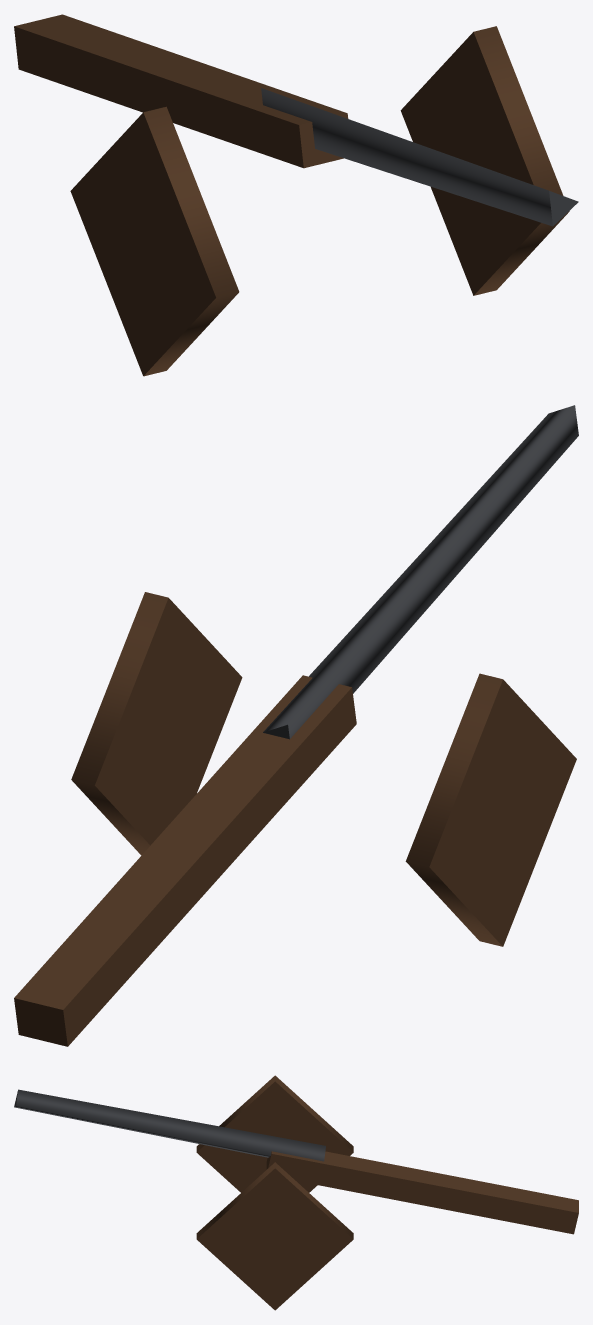
The model's file is unit_mil_gun_a05_lod2.glb.
3 renders of one model, top to bottom at view 1: azimuth 30°, elevation 25°; view 2: azimuth 150°, elevation 25°; view 3: azimuth 270°, elevation 25°, orthographic. The views are drawn at different scales.
Parts seen in each view (by area): view 1: wheel_0, wheel_1, body, barrel; view 2: body, wheel_0, wheel_1, barrel; view 3: wheel_1, body, wheel_0, barrel.
Boxes of the visible parts, x1=… form: wheel_0: x1=70, y1=106, x2=239, y2=376; wheel_1: x1=400, y1=26, x2=569, y2=295; body: x1=14, y1=14, x2=348, y2=168; barrel: x1=261, y1=88, x2=578, y2=226; body: x1=14, y1=675, x2=356, y2=1046; wheel_0: x1=405, y1=673, x2=576, y2=946; wheel_1: x1=71, y1=592, x2=242, y2=855; barrel: x1=263, y1=405, x2=578, y2=739; wheel_1: x1=196, y1=1162, x2=353, y2=1310; body: x1=266, y1=1151, x2=578, y2=1234; wheel_0: x1=196, y1=1075, x2=353, y2=1192; barrel: x1=14, y1=1089, x2=325, y2=1161.
Size of the model in its own units: 1.82 by 1.57 by 4.67.
